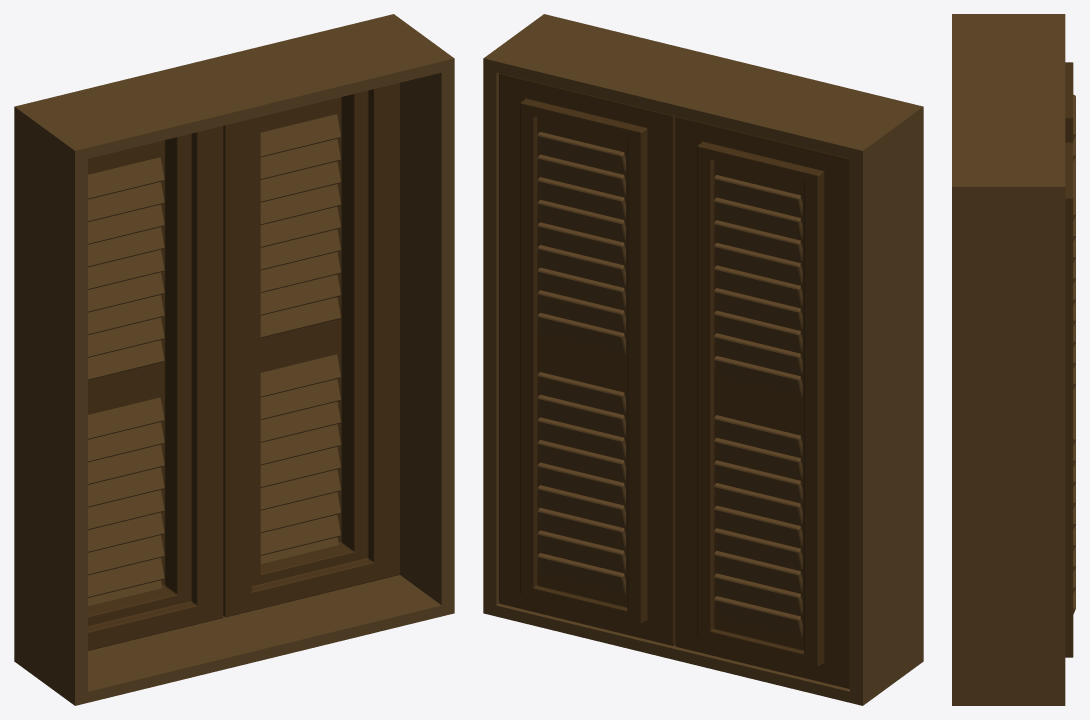
The model's file is janela.fbx.
3 renders of one model, left to right at view 1: azimuth 30°, elevation 25°; view 2: azimuth 150°, elevation 25°; view 3: azimuth 270°, elevation 25°, orthographic. The views are drawn at different scales.
Parts seen in each view (by area): view 1: Cube.013, Janela, Veneziana, Veneziana.001; view 2: Janela, Cube.013, Veneziana, Veneziana.001; view 3: Cube.013, Janela, Veneziana, Veneziana.001.
Boxes of the visible parts, <box> form: Cube.013: <box>14,14,454,705</box>; Janela: <box>88,83,399,650</box>; Veneziana: <box>88,114,341,380</box>; Veneziana.001: <box>88,354,341,606</box>; Janela: <box>499,73,849,688</box>; Cube.013: <box>483,14,923,705</box>; Veneziana: <box>537,132,802,397</box>; Veneziana.001: <box>537,372,802,637</box>; Cube.013: <box>952,14,1065,705</box>; Janela: <box>1065,62,1073,657</box>; Veneziana: <box>1073,94,1075,389</box>; Veneziana.001: <box>1073,384,1075,614</box>.
Size of the model in its own units: 81.7 by 114 by 24.7.
